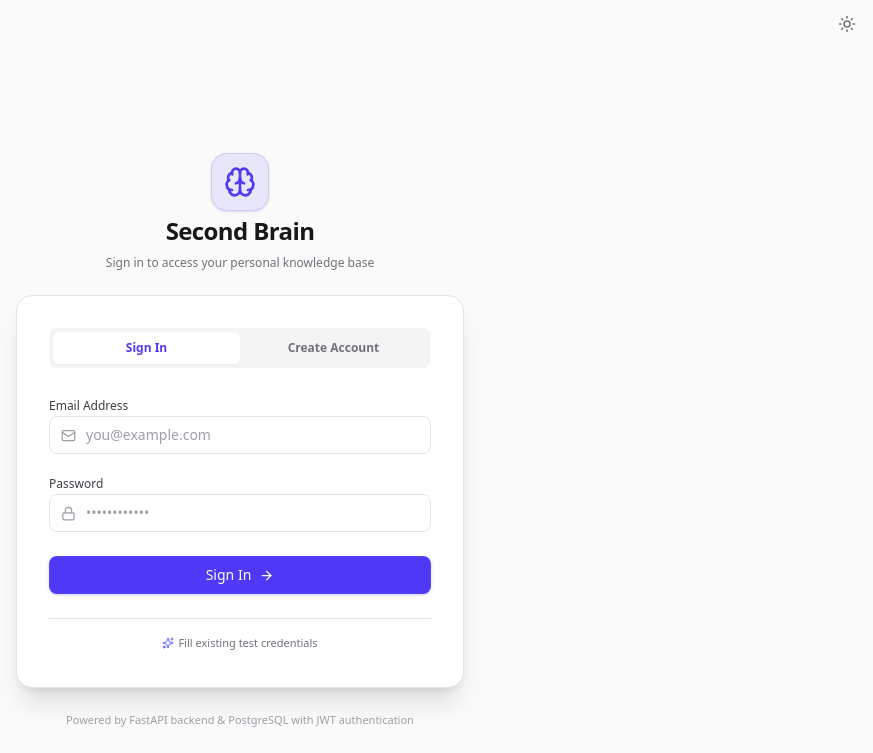
Test case: AuthView and AuthContext Flow › can switch to Create Account form and shows full name field
Step 1. Click the tab "Create Account" → (334, 348), box top-left (240, 332), bottom-right (427, 364)
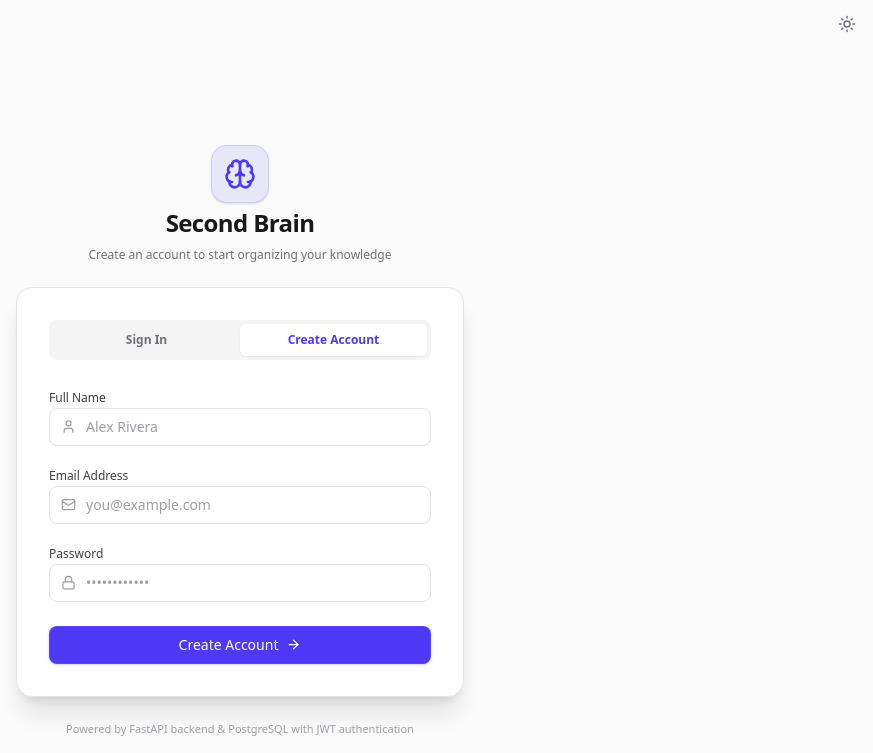
expect the field with placeholder "Alex Rivera" is shown: met, box top-left (49, 408), bottom-right (431, 446)
expect the button "Create Account" is shown: met, box top-left (49, 626), bottom-right (431, 664)
